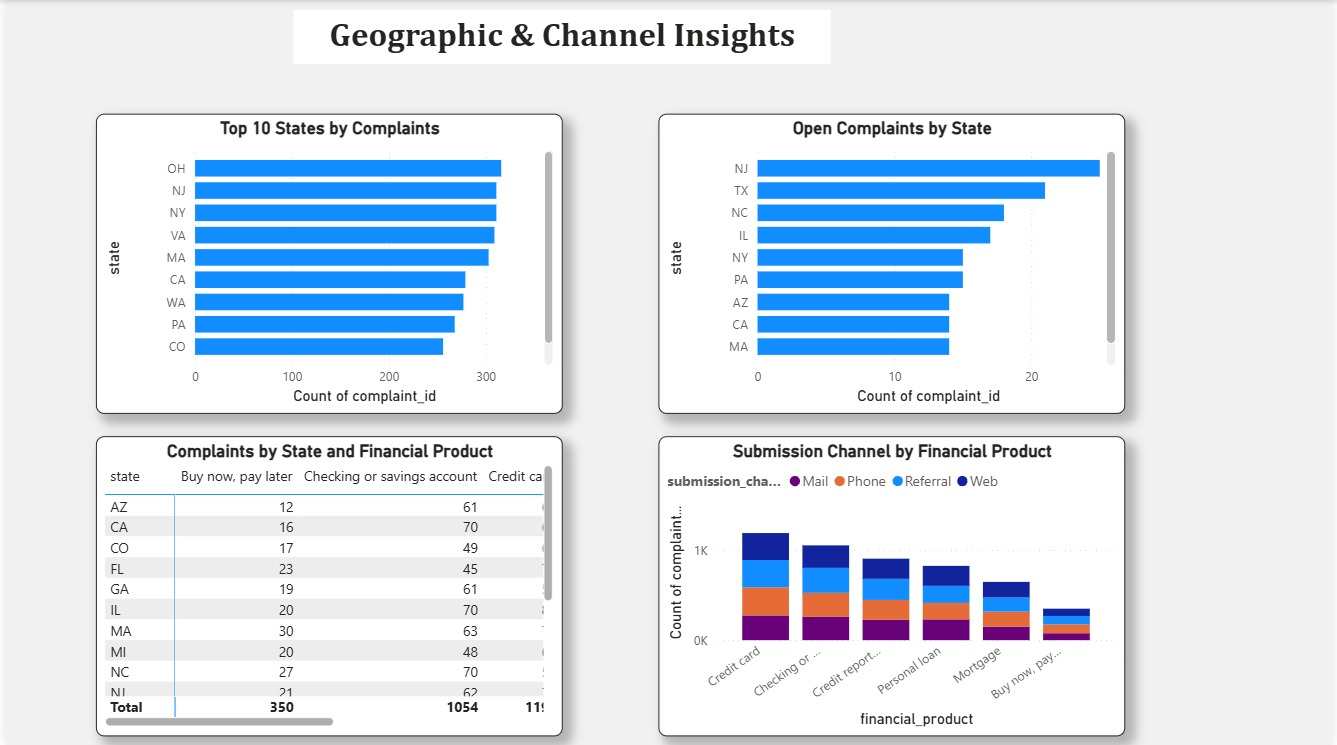

Layout of this report page (visuals, bound fields, positions):
{"tool":"powerbi","page":{"name":"Geographic & Channel Insights","canvas":[1280,720],"ordinal":3},"visuals":[{"type":"textbox","box":[277.2,9.6,518.7,52.1],"z":0},{"type":"clusteredBarChart","title":"\tTop 10 States by Complaints","fields":{"Category":["Cleaned Data.state"],"Y":["CountNonNull(Cleaned Data.complaint_id)"]},"box":[86.4,109.8,450.1,289.5],"z":1},{"type":"clusteredBarChart","title":"\tOpen Complaints by State","fields":{"Category":["Cleaned Data.state"],"Y":["CountNonNull(Cleaned Data.complaint_id)"]},"box":[629.8,109.8,450.1,289.5],"z":2},{"type":"pivotTable","title":"Complaints by State and Financial Product","fields":{"Rows":["Cleaned Data.state"],"Columns":["Cleaned Data.financial_product"],"Values":["CountNonNull(Cleaned Data.complaint_id)"]},"box":[86.4,421.3,450.1,289.5],"z":3},{"type":"columnChart","title":"\tSubmission Channel by Financial Product","fields":{"Category":["Cleaned Data.financial_product"],"Y":["CountNonNull(Cleaned Data.complaint_id)"],"Series":["Cleaned Data.submission_channel"]},"box":[629.8,421.3,450.1,289.5],"z":4}]}

Visuals, with their boxes in screenshot pixels (x1, y1, x2, y2), scaled from the page's 1280x720 canvas onto the 1337x745 screenshot:
textbox: detection(290, 10, 831, 64)
"	Top 10 States by Complaints" clusteredBarChart: detection(90, 114, 560, 413)
"	Open Complaints by State" clusteredBarChart: detection(658, 114, 1128, 413)
"Complaints by State and Financial Product" pivotTable: detection(90, 436, 560, 735)
"	Submission Channel by Financial Product" columnChart: detection(658, 436, 1128, 735)
